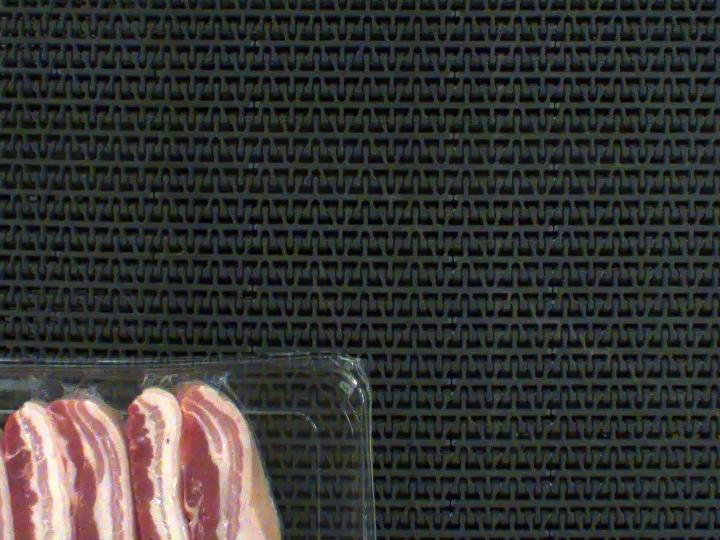packaging-error: (0, 323, 249, 423)
